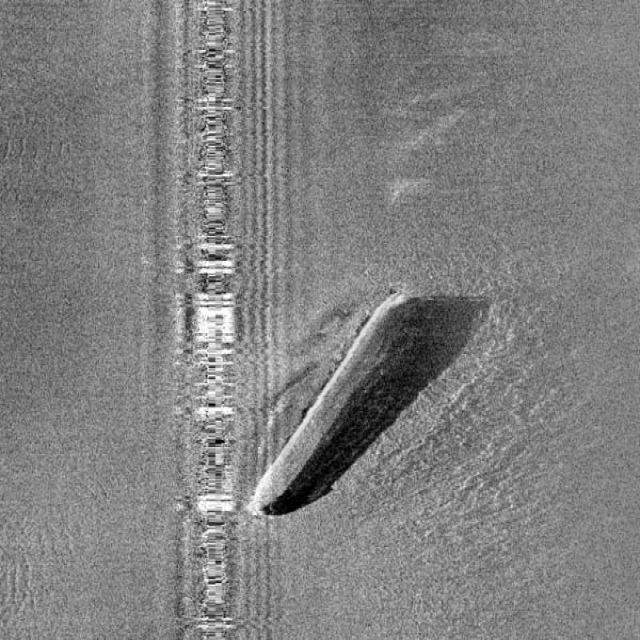shipwreck: (247, 289, 415, 511)
